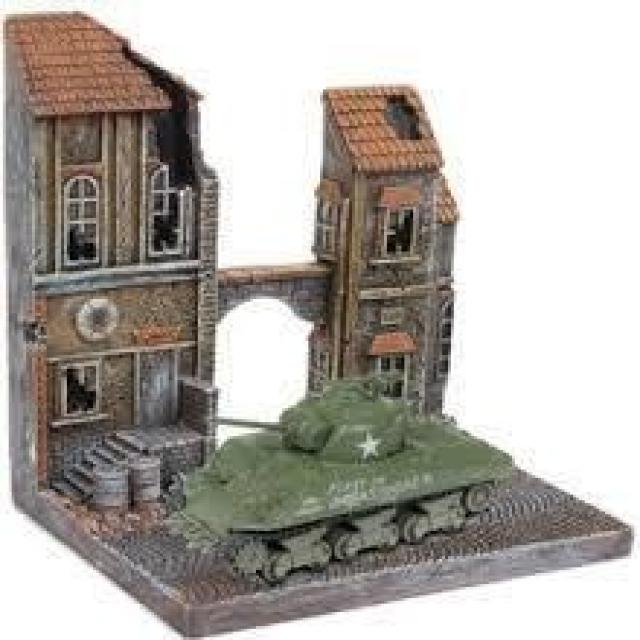Tanks: (179, 378, 522, 582)
